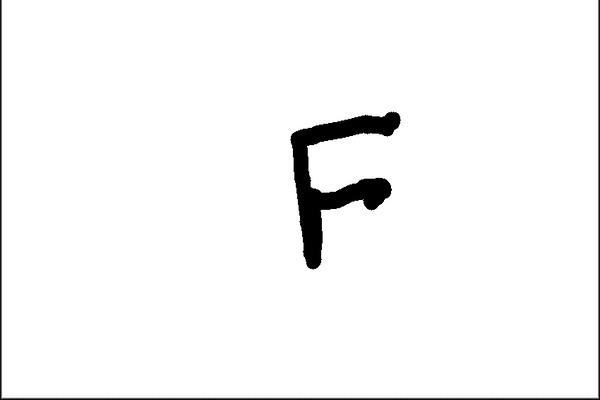F: (285, 108, 404, 272)
